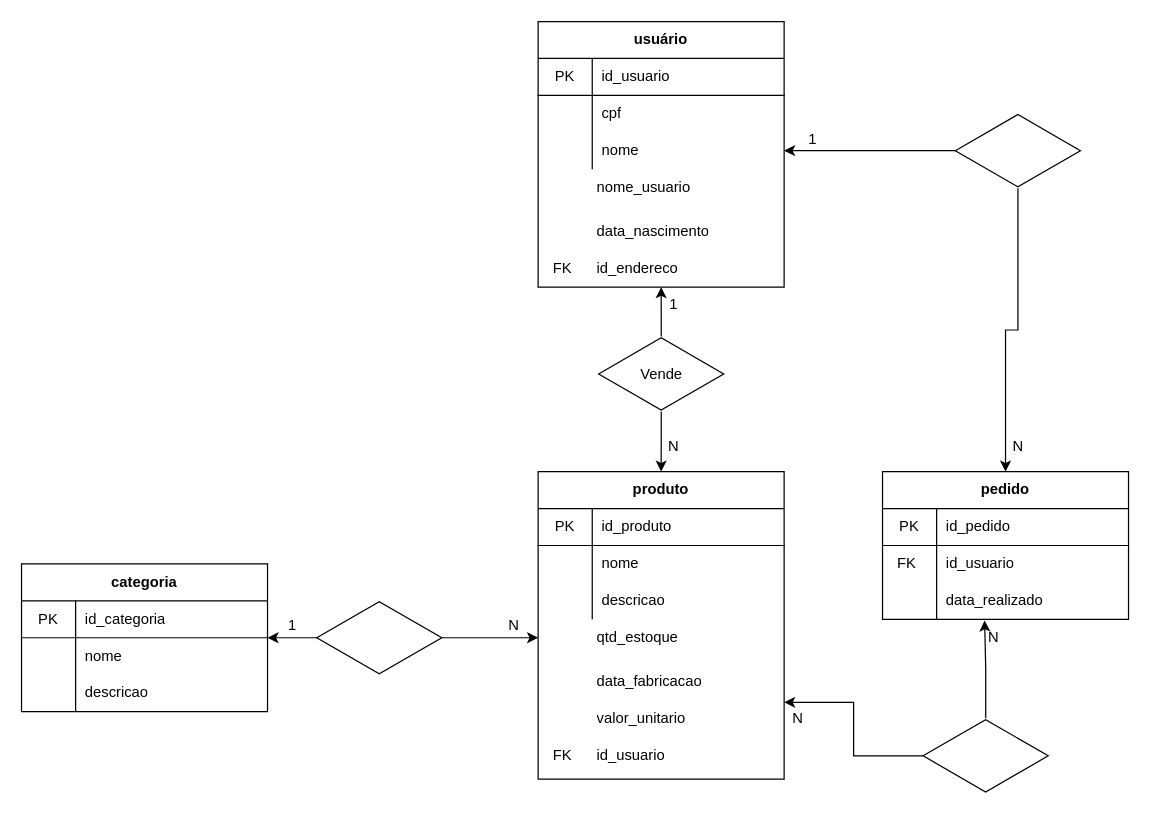
This 1150x815 diagram has some shape labels left out. Here are the shapes that lost their labels. From the top down, the centre of each, then its label:
the point at 1017,150: Faz
the point at 378,637: Pertence
the point at 985,755: Possui
